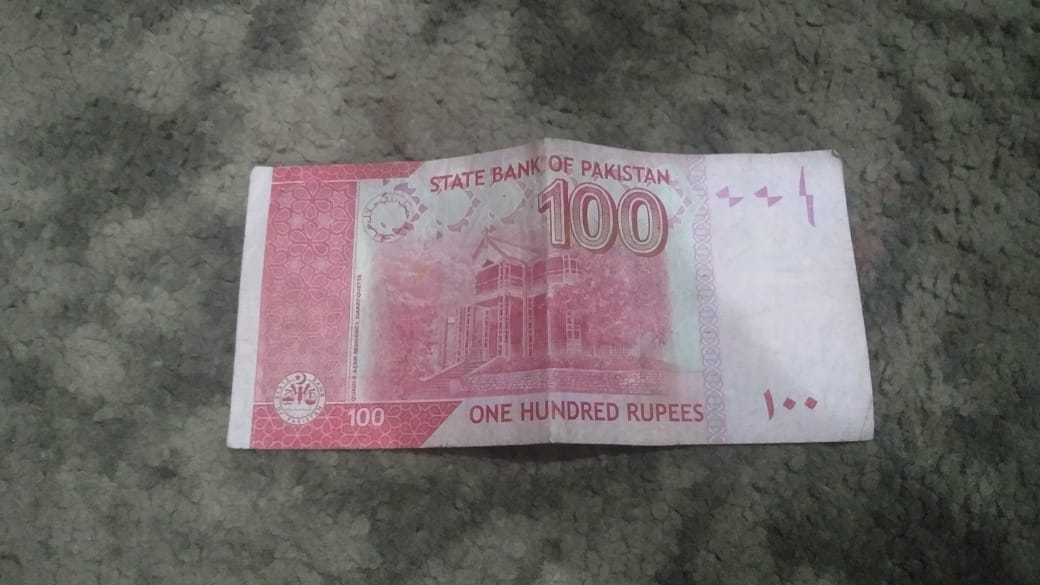100 rupee: (218, 142, 893, 478)
